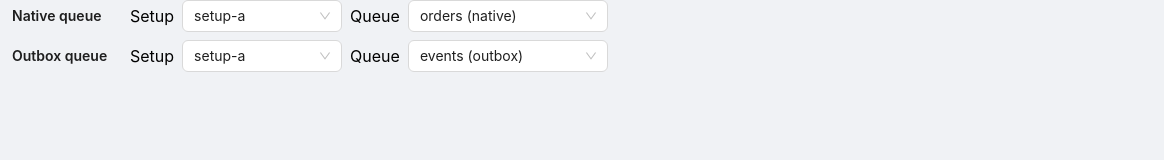
Scenario: CompareTargets › clears the row whose setup failed to load, and LEAVES the healthy row alone
This screenshot has width=1164, height=160.
Point only the NATIVE row at the failing setup.
Click the dropdown. click: point(253, 16)
box: [194, 1, 312, 31]
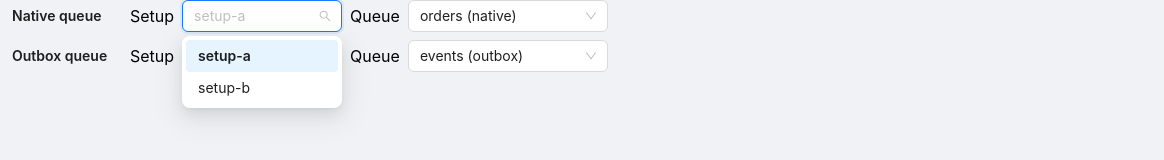
Click the element titled "setup-b". click: point(224, 88)
box: [198, 79, 250, 96]
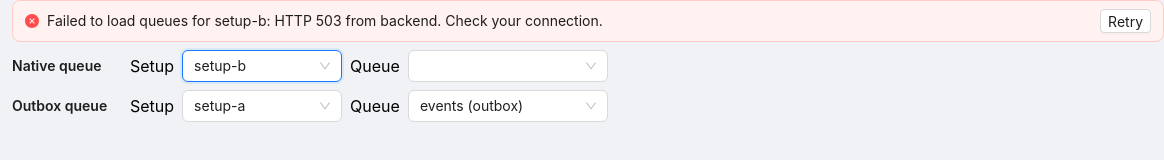
Check: the message with test id "compare-queue-error" is shown, box [12, 0, 1163, 42]
